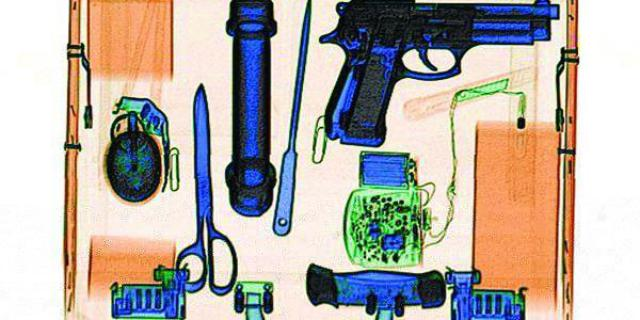Gun: (316, 0, 560, 147)
Knife: (168, 81, 240, 302)
